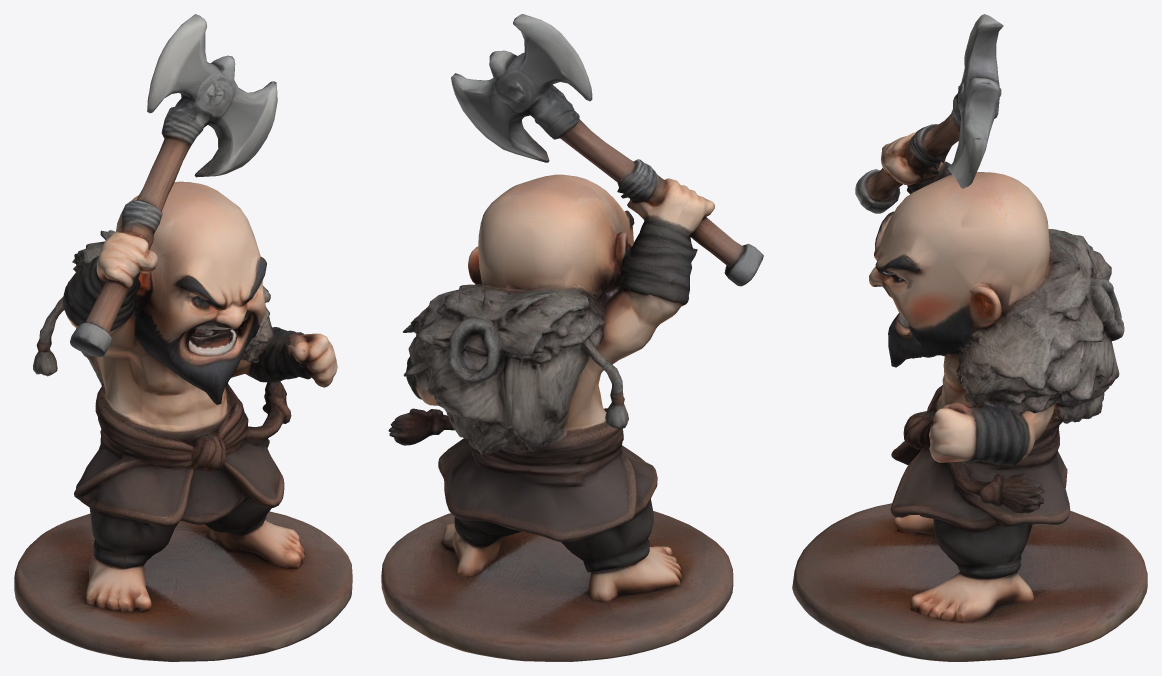
The model's file is axe-raider.glb.
3 renders of one model, left to right at view 1: azimuth 30°, elevation 25°; view 2: azimuth 150°, elevation 25°; view 3: azimuth 270°, elevation 25°, orthographic. The views are drawn at different scales.
Bounding box in the file's own units: 1.13 × 2 × 1.11.
1 material, 1 textured.
